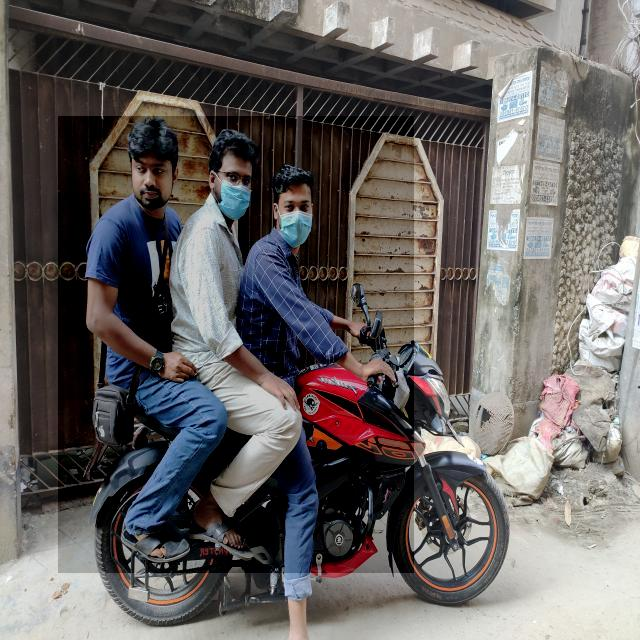Overloading: (58, 116, 414, 573)
